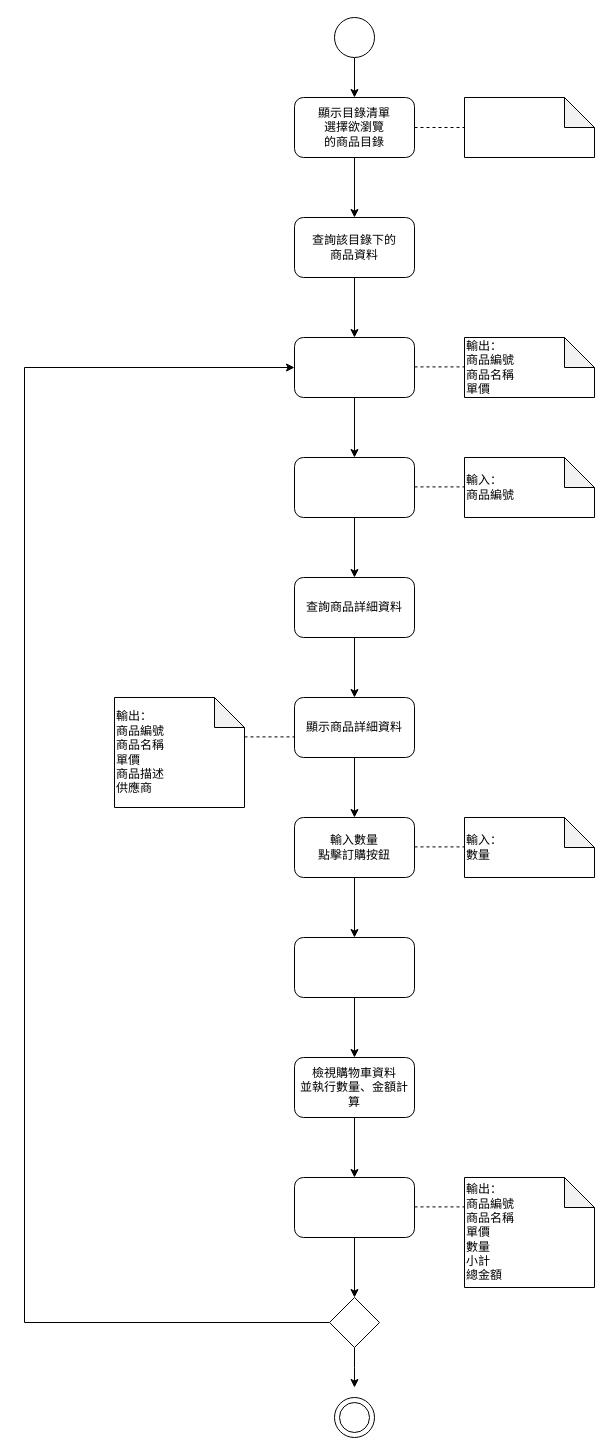
Image size: 612x1455. Some labels were removed from this diagram. The shapes that lost their labels are listed below. From the top down, each one's centre as x and y in pixels, then its label:
At (529,127): "輸入： 目錄名稱".
At (354,367): "顯示該目錄下 的商品清單".
At (354,487): "點選有興趣的商品".
At (354,967): "將商品放入購物車".
At (354,1207): "顯示購物車內容".
